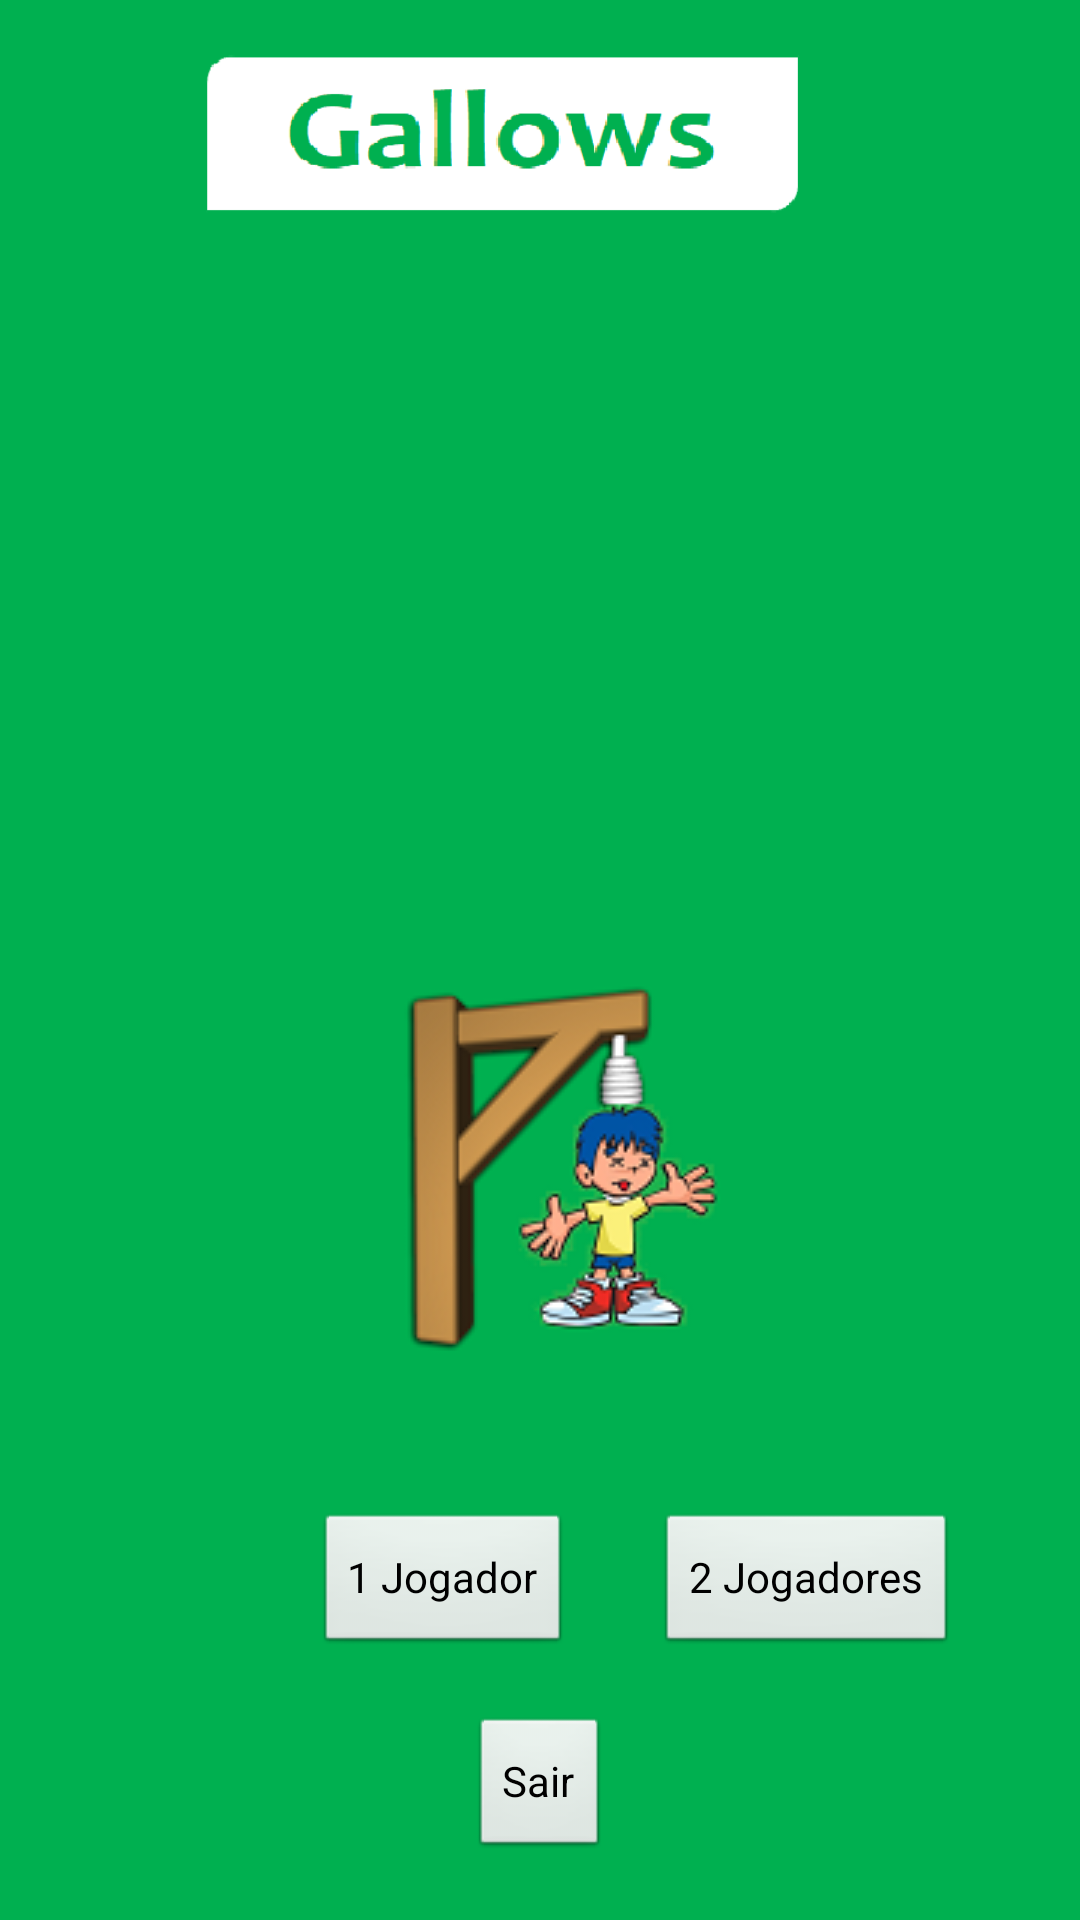

Icon bounding boxes for this 1080×1920 phone screenshot, format (x1, y1, x2, y2):
forca: (408, 989, 717, 1349)
